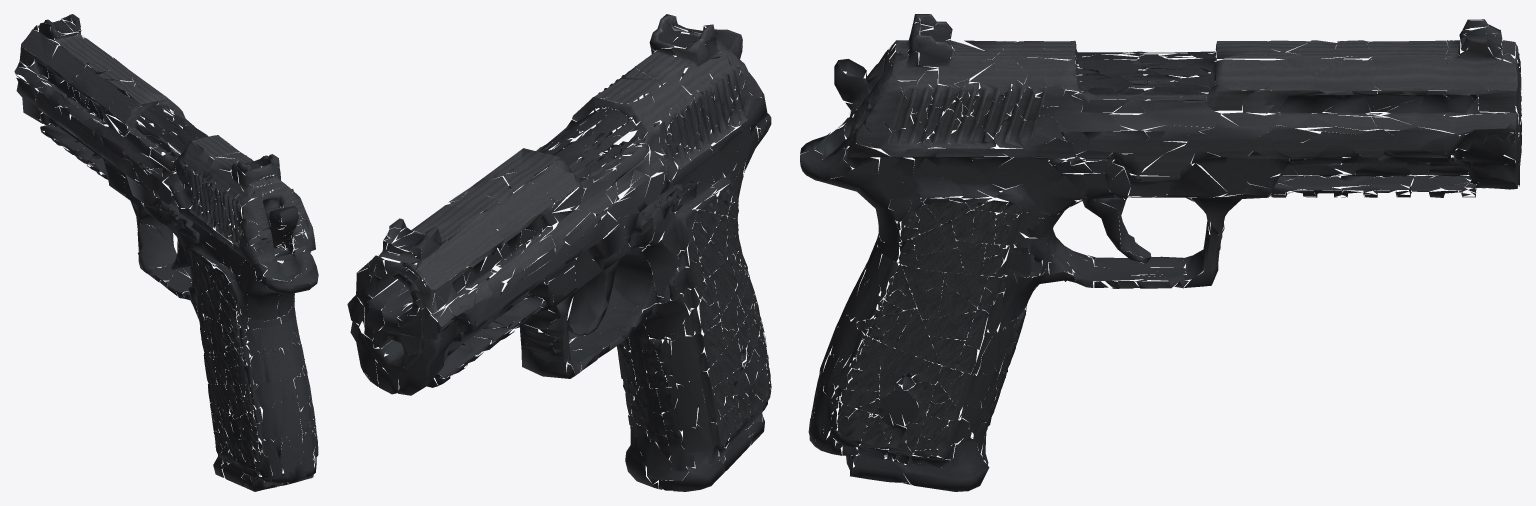
File: sidearm-web.glb
3 views of the same model, side by side, from view 1: azimuth 30°, elevation 25°; view 2: azimuth 150°, elevation 25°; view 3: azimuth 270°, elevation 25° (orthographic). The views are drawn at different scales.
Size of the model in its own units: 0.1493 by 0.6196 by 0.9.
1 material, 1 textured.
